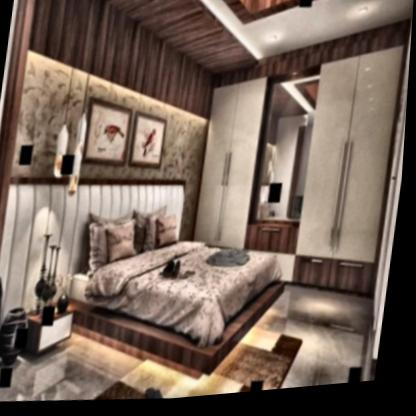Bed: (64, 188, 301, 388)
Closet: (290, 48, 410, 314), (189, 77, 273, 252)
Lamp: (51, 0, 91, 185)
